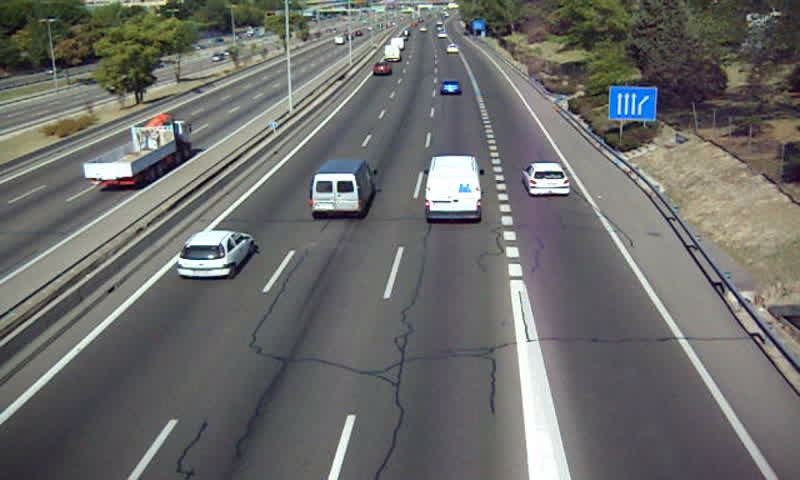car: (176, 230, 255, 282), (523, 162, 572, 196), (439, 78, 462, 95), (371, 62, 392, 77)
van: (312, 160, 377, 221), (424, 155, 483, 221), (384, 45, 401, 63)
